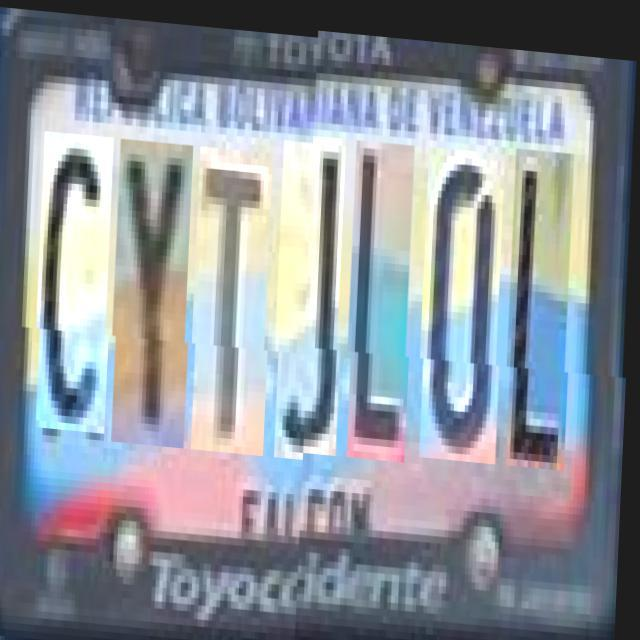0: (422, 146, 510, 461)
C: (40, 130, 119, 432)
J: (278, 135, 350, 456)
L: (350, 140, 419, 462), (509, 145, 578, 466)
T: (195, 142, 278, 450)
Y: (115, 136, 198, 444)
